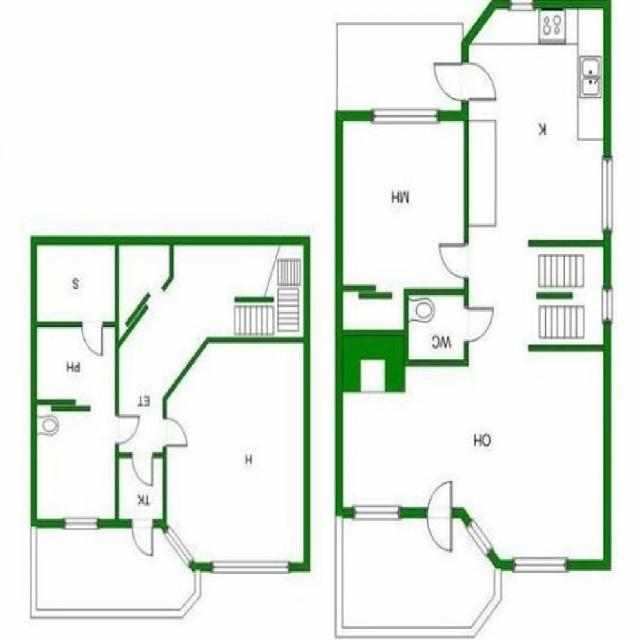door: (146, 284, 179, 330), (461, 63, 494, 99), (436, 63, 468, 99), (427, 508, 451, 550), (427, 476, 451, 517), (464, 308, 493, 341), (441, 244, 468, 276), (132, 519, 152, 555), (132, 452, 152, 485), (115, 415, 138, 443), (82, 321, 102, 353), (162, 419, 185, 445)
